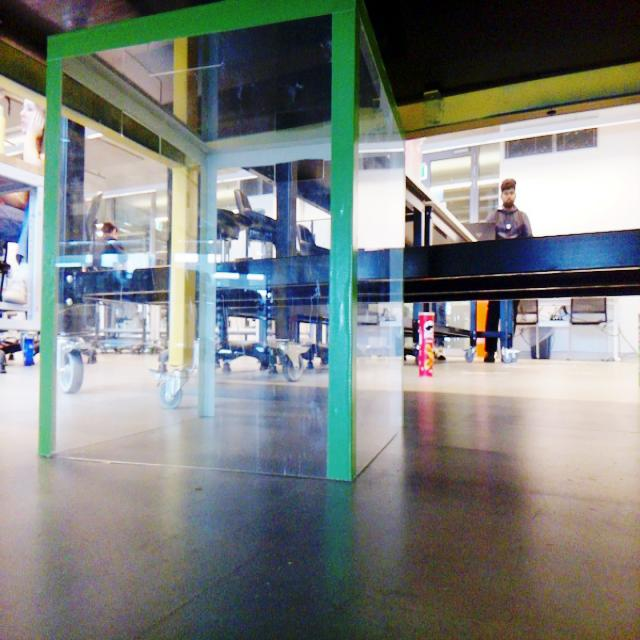redpringles: (408, 306, 448, 388)
